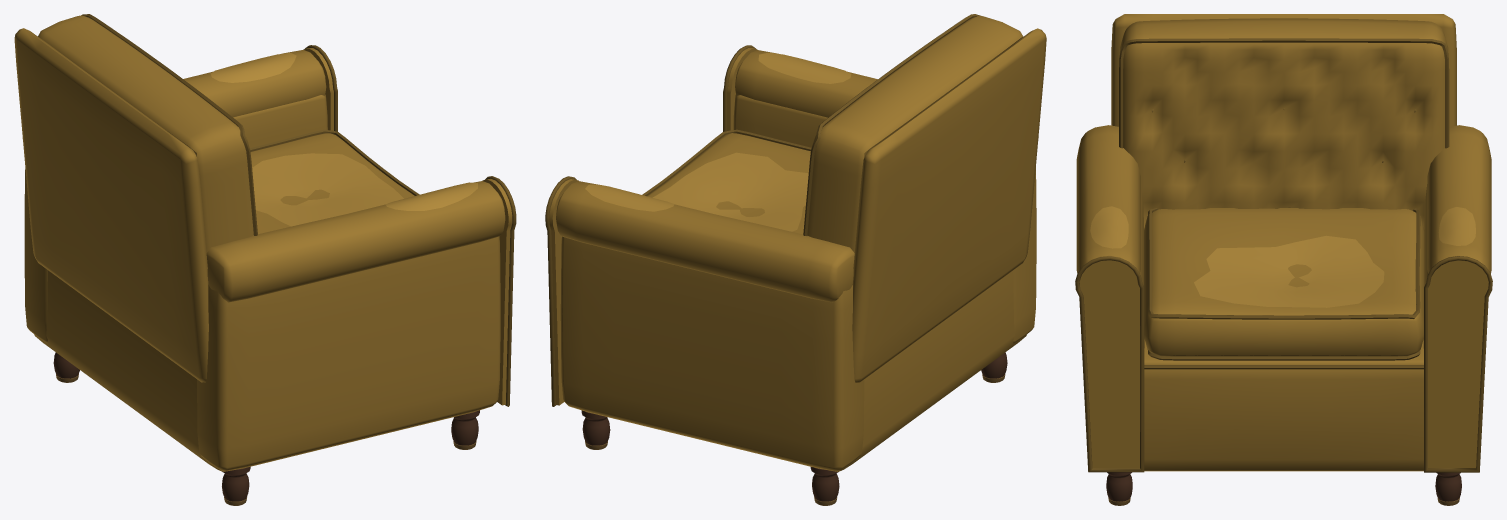
The model's file is armchair@1.glb.
The picture shows the model from 3 angles, left to right: view 1: azimuth 30°, elevation 25°; view 2: azimuth 150°, elevation 25°; view 3: azimuth 270°, elevation 25°; orthographic projection. The views are drawn at different scales.
Parts seen in each view (by area): view 1: armlehne, ruecken_aussen, ruecken, unterbau, armlehne.001, abrieb, sitzkissen, fuesse, stirn, arm_abrieb.001, ruecken_keder, arm_abrieb (+3 smaller); view 2: armlehne.001, ruecken_aussen, ruecken, unterbau, armlehne, abrieb, sitzkissen, fuesse, stirn.001, arm_abrieb, ruecken_keder, arm_abrieb.001 (+3 smaller); view 3: ruecken, unterbau, sitzkissen, stirn.001, stirn, abrieb, armlehne.001, armlehne, ruecken_aussen, sitz_keder, ruecken_keder, stirn_keder (+5 smaller).
Part boxes in pixels (bbox=[...]): armlehne: bbox=[197, 181, 505, 471]; ruecken_aussen: bbox=[14, 28, 208, 382]; ruecken: bbox=[38, 15, 253, 252]; unterbau: bbox=[34, 270, 222, 471]; armlehne.001: bbox=[22, 50, 327, 343]; abrieb: bbox=[252, 153, 403, 226]; sitzkissen: bbox=[250, 133, 414, 234]; fuesse: bbox=[53, 352, 479, 501]; stirn: bbox=[482, 178, 512, 405]; arm_abrieb.001: bbox=[210, 52, 296, 82]; ruecken_keder: bbox=[81, 14, 257, 235]; arm_abrieb: bbox=[385, 182, 477, 210]; armlehne.001: bbox=[556, 181, 864, 471]; ruecken_aussen: bbox=[852, 28, 1046, 382]; ruecken: bbox=[807, 15, 1023, 252]; unterbau: bbox=[839, 270, 1026, 471]; armlehne: bbox=[733, 50, 1038, 343]; abrieb: bbox=[652, 152, 808, 231]; sitzkissen: bbox=[647, 133, 810, 234]; fuesse: bbox=[581, 352, 1007, 501]; stirn.001: bbox=[549, 179, 578, 405]; arm_abrieb: bbox=[758, 52, 851, 83]; ruecken_keder: bbox=[803, 14, 980, 235]; arm_abrieb.001: bbox=[585, 184, 674, 211]; ruecken: bbox=[1119, 18, 1448, 229]; unterbau: bbox=[1144, 340, 1423, 471]; sitzkissen: bbox=[1144, 208, 1424, 356]; stirn.001: bbox=[1428, 255, 1488, 468]; stirn: bbox=[1079, 255, 1139, 468]; abrieb: bbox=[1194, 235, 1384, 307]; armlehne.001: bbox=[1423, 125, 1491, 348]; armlehne: bbox=[1076, 125, 1144, 347]; ruecken_aussen: bbox=[1111, 14, 1456, 126]; sitz_keder: bbox=[1147, 207, 1420, 360]; ruecken_keder: bbox=[1119, 38, 1449, 148]; stirn_keder: bbox=[1075, 256, 1144, 472].
Size of the model in its own units: 0.858 by 0.9752 by 1.02.
